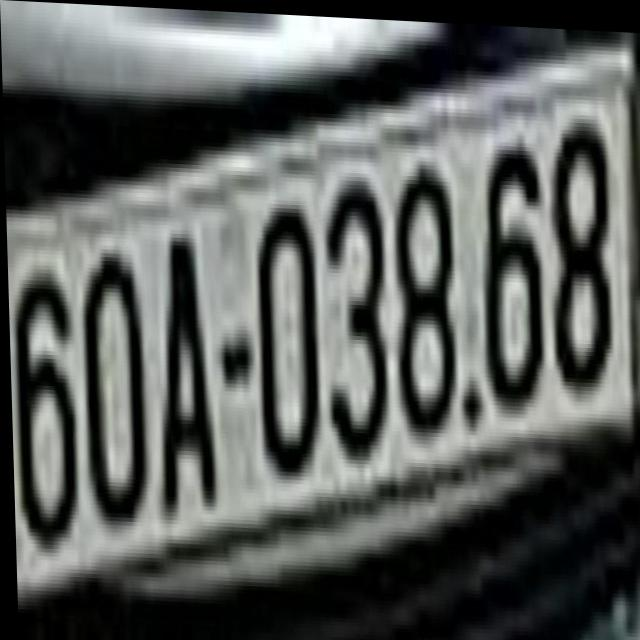0: (74, 220, 148, 530), (248, 184, 323, 486)
3: (320, 164, 390, 473)
6: (10, 241, 78, 565), (477, 128, 546, 394)
8: (387, 124, 458, 457), (546, 92, 615, 401)
A: (143, 211, 217, 517)
